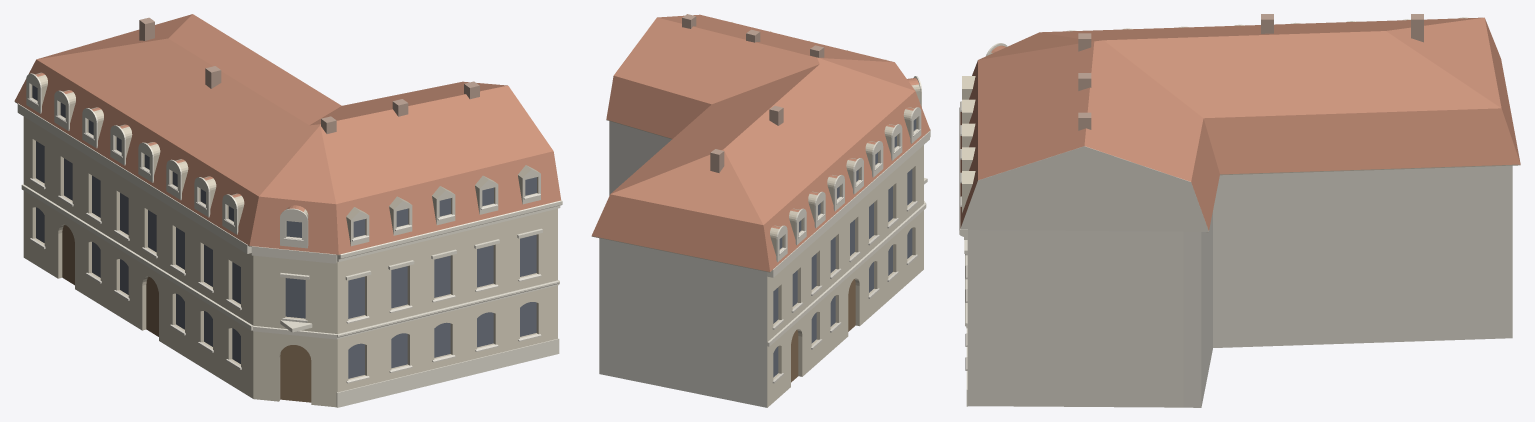
The picture shows the model from 3 angles, left to right: view 1: azimuth 30°, elevation 25°; view 2: azimuth 150°, elevation 25°; view 3: azimuth 270°, elevation 25°; orthographic projection. The views are drawn at different scales.
Parts seen in each view (by area): view 1: CP_692_Masonry, CP_692_Roof, CP_692_Cornice_plinth_0, CP_692_Cornice_teplicka_main, CP_692_Cornice_main_0, CP_692_Cornice_teplicka_string, CP_692_Cornice_string_0, CP_692_Cornice_corner_main, CP_692_Dormer_LC_frame, CP_692_Dormer_L4, CP_692_Dormer_L3, CP_692_Dormer_L2 (+3 smaller); view 2: CP_692_Roof, CP_692_Masonry, CP_692_Cornice_teplicka_main, CP_692_Cornice_teplicka_string, CP_692_Dormer_LT6_frame, CP_692_Chimney_4, CP_692_Dormer_LT1_frame; view 3: CP_692_Masonry, CP_692_Roof, CP_692_Gable_R_gable.
Boxes of the visible parts, x1,y1,x2,y2 form: CP_692_Masonry: (23,117,557,407); CP_692_Roof: (14,14,560,254); CP_692_Cornice_plinth_0: (336,338,559,407); CP_692_Cornice_teplicka_main: (17,103,251,253); CP_692_Cornice_main_0: (337,200,562,261); CP_692_Cornice_teplicka_string: (21,184,252,330); CP_692_Cornice_string_0: (337,280,559,338); CP_692_Cornice_corner_main: (251,246,337,263); CP_692_Dormer_LC_frame: (280,208,308,248); CP_692_Dormer_L4: (475,175,498,214); CP_692_Dormer_L3: (432,186,455,225); CP_692_Dormer_L2: (389,196,412,235); CP_692_Roof: (591,14,930,271); CP_692_Masonry: (599,121,923,407); CP_692_Cornice_teplicka_main: (767,131,929,277); CP_692_Cornice_teplicka_string: (767,204,925,346); CP_692_Dormer_LT6_frame: (872,141,883,177); CP_692_Chimney_4: (710,149,724,172); CP_692_Dormer_LT1_frame: (776,225,787,262); CP_692_Masonry: (967,165,1512,407); CP_692_Roof: (960,17,1520,230); CP_692_Gable_R_gable: (960,146,1209,231).
Size of the model in its own units: 21.82 by 16 by 29.96.
